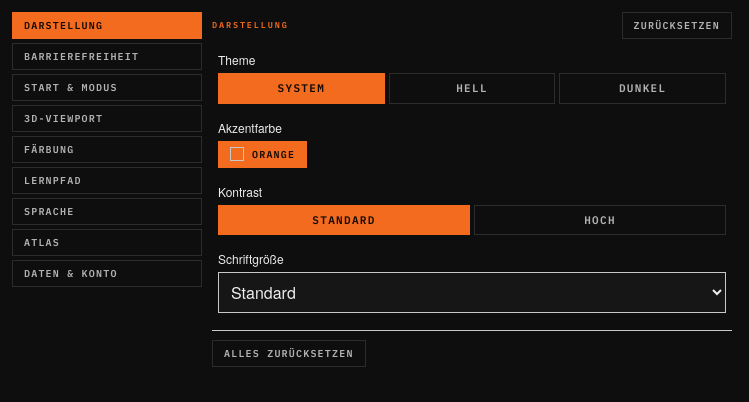
it: SettingsPanel Daten & Konto › pflegt Rollenwert und setzt Lernfortschritt zurueck
This screenshot has width=749, height=402.
Click the button "Daten & Konto" at (107, 274), box x1=12 y1=260 x2=202 y2=287
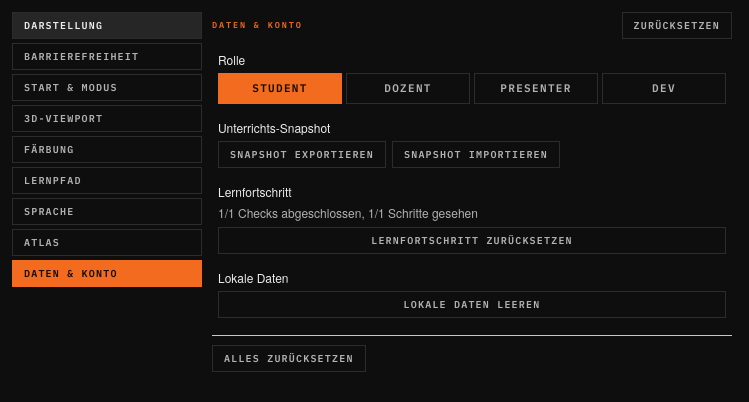
Click the button "Dozent" at (408, 88), box x1=346 y1=73 x2=470 y2=104
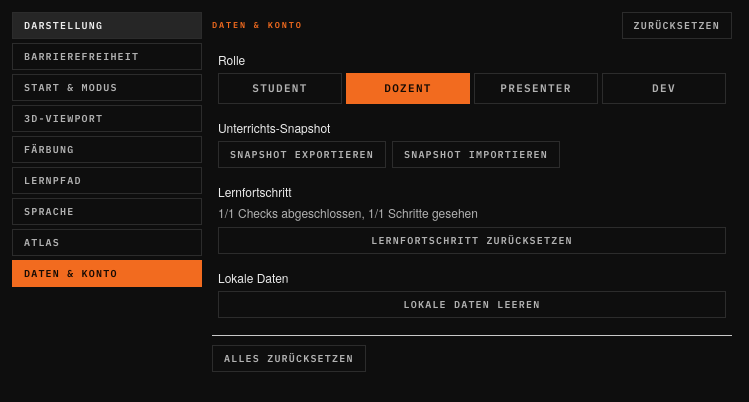
Expected: the text "1/1 Checks abgeschlossen, 1/1 Schritte gesehen" is shown, x1=218 y1=204 x2=478 y2=220
Click the button "Lernfortschritt zurücksetzen" at (472, 240), box x1=218 y1=227 x2=726 y2=254
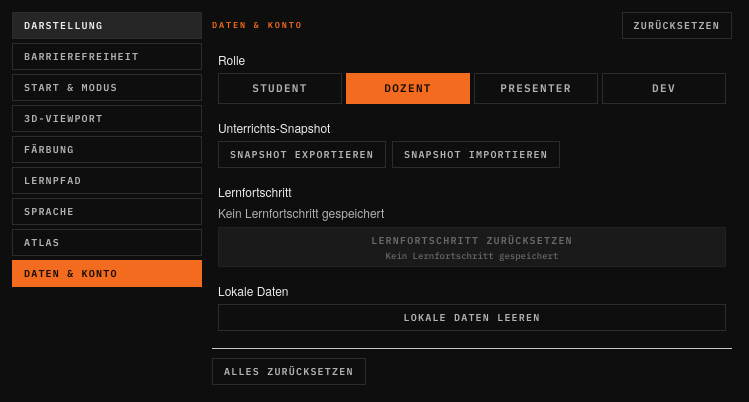
Expected: the 1st text "Kein Lernfortschritt gespeichert" is shown, x1=218 y1=204 x2=384 y2=220
